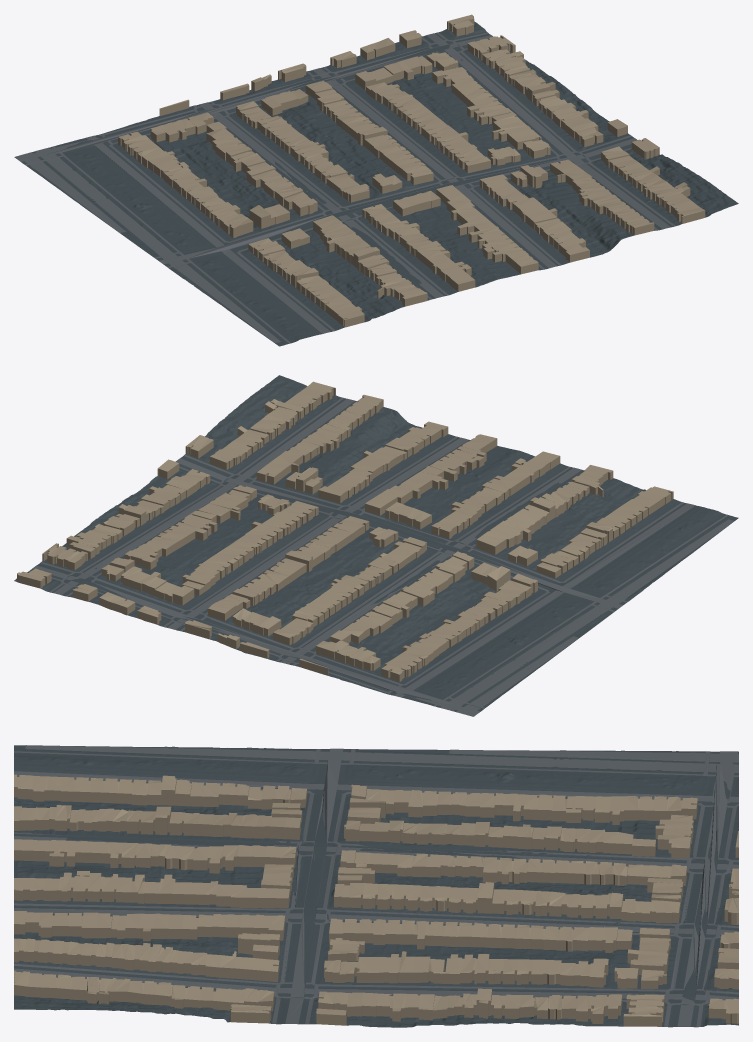
File: epsg26910-1418-10879.lod0.glb
3 renders of one model, top to bottom at view 1: azimuth 30°, elevation 25°; view 2: azimuth 150°, elevation 25°; view 3: azimuth 270°, elevation 25°, orthographic. The views are drawn at different scales.
Visible parts, largest first — view 1: epsg26910-1418-10879-lod0; view 2: epsg26910-1418-10879-lod0; view 3: epsg26910-1418-10879-lod0.
Boxes of the visible parts, x1,y1,x2,y2 form: epsg26910-1418-10879-lod0: (14,14,738,346); epsg26910-1418-10879-lod0: (14,375,738,716); epsg26910-1418-10879-lod0: (14,745,738,1027).
Bounding box in the file's own units: 384 × 29.69 × 384.
